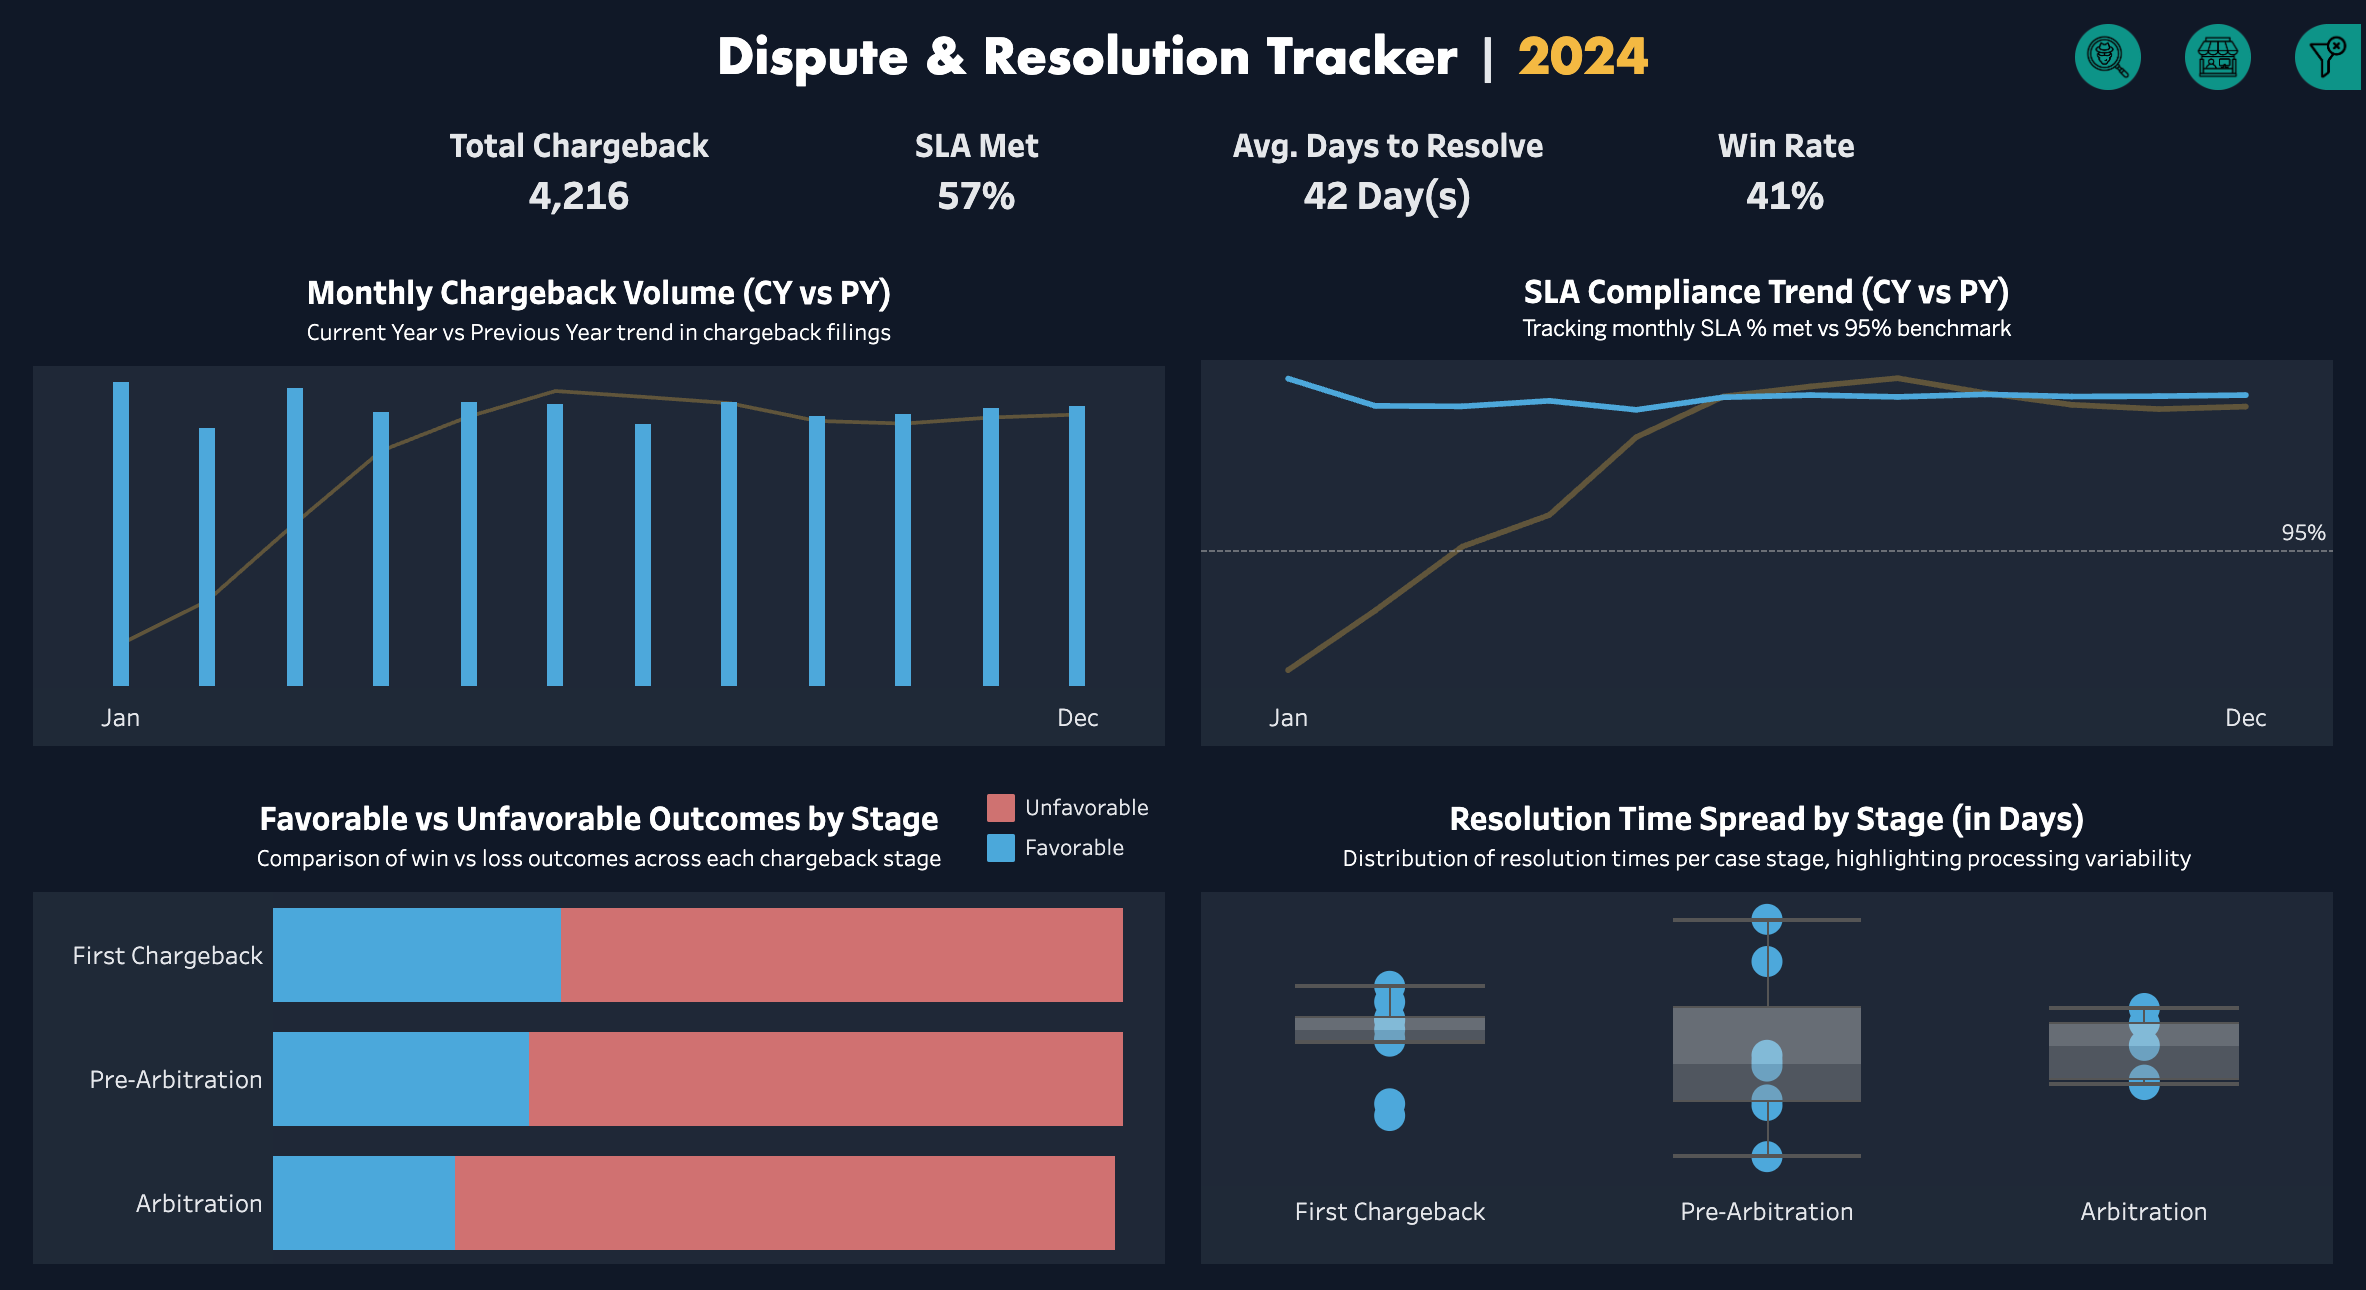

This screenshot's page, from the dashboard's own definition file:
{"tool":"tableau","page":{"name":"Dispute & Resolution Tracker","canvas":[1000,1000],"units":"permille","ordinal":0},"visuals":[{"type":"text","box":[6.7,10,986.7,84.8]},{"type":"blank","box":[862.5,10,130,156.2]},{"type":"dashboard-object","box":[866.7,31.2,37.5,50]},{"type":"dashboard-object","box":[912.5,31.2,37.5,50]},{"type":"dashboard-object","box":[958.3,31.2,37.5,50]},{"type":"worksheet","title":"Total Chargebacks","mark":"Automatic","box":[165,95,167.5,88.8]},{"type":"worksheet","title":"SLA Met","mark":"Automatic","box":[332.5,95,167.5,88.8]},{"type":"worksheet","title":"Avg Day to Resolve","mark":"Automatic","box":[500,95,167.5,88.8]},{"type":"worksheet","title":"Win Rate (%)","mark":"Automatic","box":[667.5,95,167.5,88.8]},{"type":"text","box":[862.5,166.2,130,31.2]},{"type":"worksheet","title":"Monthly Chargeback Volume (CY vs PY)","mark":"Bar","rows":["Calculation_1955969643496353801"],"cols":["Filing Date"],"box":[6.7,183.8,493.3,403.8]},{"type":"worksheet","title":"SLA Compliance Trend (CY vs PY)","mark":"Line","cols":["Filing Date"],"box":[500,183.8,493.3,403.8]},{"type":"parameter","param":"[Parameters].[Parameter 1]","box":[862.5,197.5,130,135]},{"type":"text","box":[862.5,332.5,130,31.2]},{"type":"filter","title":"Favorable vs Unfavorable Outcomes by Stage","param":"[federated.0wuc5fv0nmrn7l1etpsh61x213hc].[none:Chargeback Stage:nk]","box":[862.5,363.8,130,136.2]},{"type":"text","box":[862.5,500,130,31.2]},{"type":"filter","title":"Favorable vs Unfavorable Outcomes by Stage","param":"[federated.0wuc5fv0nmrn7l1etpsh61x213hc].[none:Merchant Category:nk]","box":[862.5,531.2,130,135]},{"type":"worksheet","title":"Favorable vs Unfavorable Outcomes by Stage","mark":"Bar","rows":["Chargeback Stage"],"box":[6.7,587.5,493.3,402.5]},{"type":"worksheet","title":"Resolution Time Spread by Stage (in Days)","mark":"Circle","rows":["Days to Resolve"],"cols":["Chargeback Stage"],"box":[500,587.5,493.3,402.5]},{"type":"legend","title":"Favorable vs Unfavorable Outcomes by Stage","param":"[federated.0wuc5fv0nmrn7l1etpsh61x213hc].[none:Calculation_1232860427659829248:n","box":[415.8,604.8,94.2,61.5]},{"type":"text","box":[862.5,666.2,130,31.2]},{"type":"filter","title":"Monthly Chargeback Volume (CY vs PY)","param":"[federated.0wuc5fv0nmrn7l1etpsh61x213hc].[none:Reason Code:nk]","box":[862.5,697.5,130,42.5]}]}

Visuals, with their boxes on the dashboard's canvas, which has no fixed pixel size, in thousandths of its width and height (x1, y1, x2, y2). These are canvas units, not pixel positions in the 2366x1290 screenshot, which may show the page scaled, cropped or inside an application window:
text: 7 10 993 95
blank: 862 10 992 166
dashboard-object: 867 31 904 81
dashboard-object: 912 31 950 81
dashboard-object: 958 31 996 81
"Total Chargebacks" worksheet: 165 95 332 184
"SLA Met" worksheet: 332 95 500 184
"Avg Day to Resolve" worksheet: 500 95 668 184
"Win Rate (%)" worksheet: 668 95 835 184
text: 862 166 992 197
"Monthly Chargeback Volume (CY vs PY)" worksheet (Bar marks): 7 184 500 588
"SLA Compliance Trend (CY vs PY)" worksheet (Line marks): 500 184 993 588
parameter: 862 198 992 332
text: 862 332 992 364
"Favorable vs Unfavorable Outcomes by Stage" filter: 862 364 992 500
text: 862 500 992 531
"Favorable vs Unfavorable Outcomes by Stage" filter: 862 531 992 666
"Favorable vs Unfavorable Outcomes by Stage" worksheet (Bar marks): 7 588 500 990
"Resolution Time Spread by Stage (in Days)" worksheet (Circle marks): 500 588 993 990
"Favorable vs Unfavorable Outcomes by Stage" legend: 416 605 510 666
text: 862 666 992 697
"Monthly Chargeback Volume (CY vs PY)" filter: 862 698 992 740
